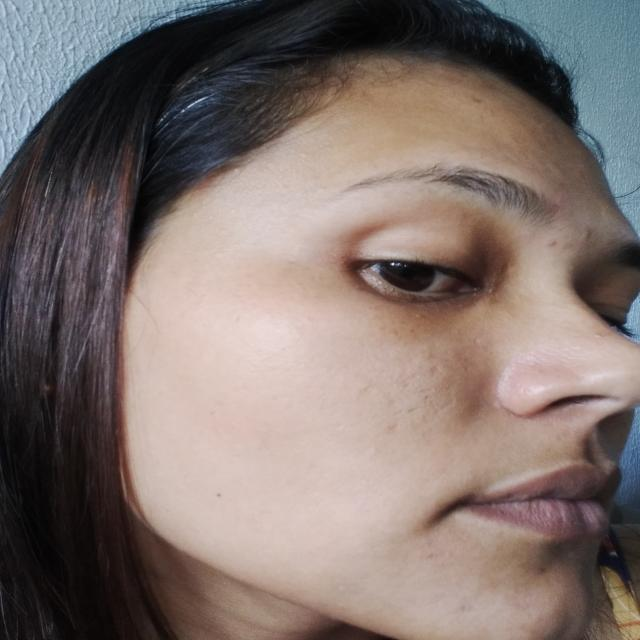Acne: (450, 80, 502, 121), (543, 231, 595, 261)
